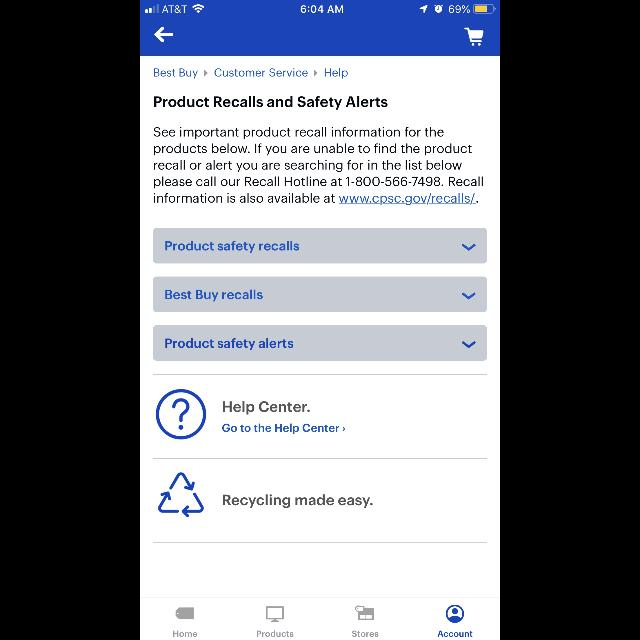icon: (156, 388, 207, 439), (464, 28, 484, 46), (446, 605, 464, 623), (154, 27, 173, 43), (176, 607, 194, 619), (462, 292, 476, 300), (462, 244, 476, 252), (462, 342, 476, 348), (314, 70, 318, 76), (206, 70, 208, 76), (343, 427, 345, 431)
image: (158, 472, 204, 518), (266, 606, 284, 622), (356, 606, 374, 620)
text: (154, 127, 482, 205), (154, 96, 388, 110), (223, 494, 373, 508), (165, 241, 299, 253), (166, 338, 294, 350), (224, 401, 310, 415), (222, 424, 340, 434), (165, 290, 262, 302), (154, 69, 198, 79), (214, 69, 266, 77), (270, 69, 308, 77), (324, 68, 348, 80), (256, 631, 294, 637), (438, 631, 472, 637), (352, 631, 378, 637), (173, 631, 197, 637)
uppertaskbar: (140, 0, 500, 14)
